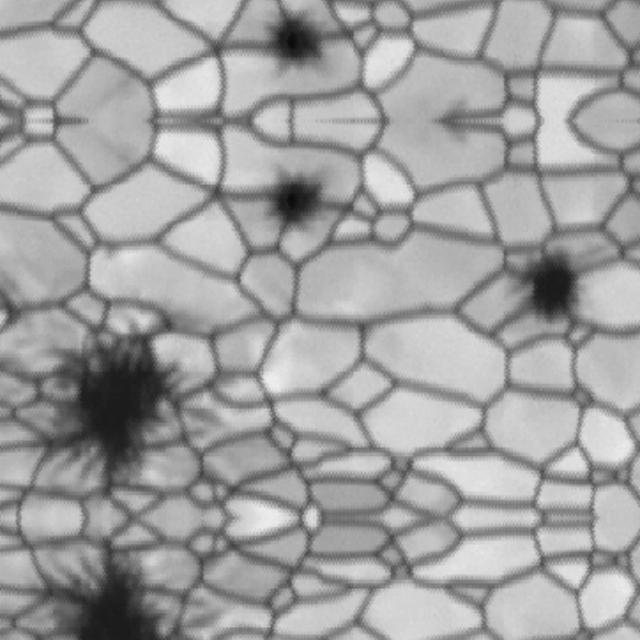good_void: (34, 316, 207, 509), (34, 529, 207, 640), (502, 235, 603, 332), (252, 159, 334, 251), (252, 0, 334, 83)
